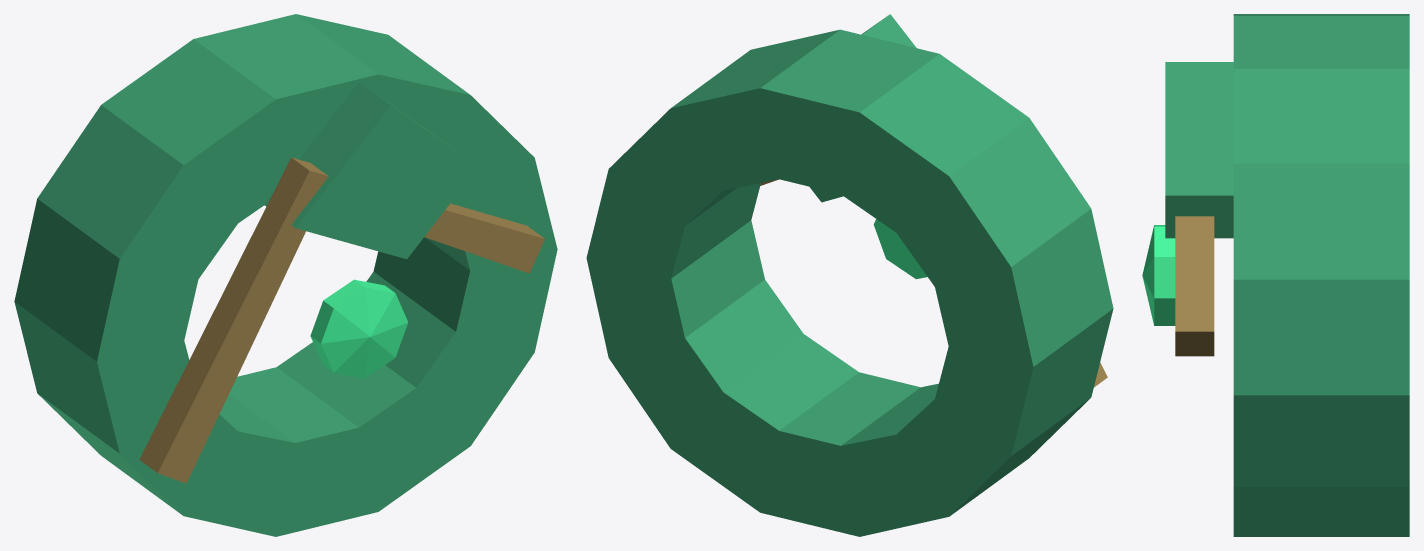
The model's file is dragon_loop.obj.
3 views of the same model, side by side, from view 1: azimuth 30°, elevation 25°; view 2: azimuth 150°, elevation 25°; view 3: azimuth 270°, elevation 25° (orthographic). The views are drawn at different scales.
Parts seen in each view (by area): view 1: dragon_loop, dragon_head, dragon_spine, dragon_spine_edge, dragon_loop_gem, dragon_head_edge; view 2: dragon_loop, dragon_loop_gem, dragon_head_edge; view 3: dragon_loop, dragon_head_edge, dragon_spine_edge, dragon_loop_gem.
Boxes of the visible parts, box(x1,y1,x2,y2) form: dragon_loop: box(14, 14, 557, 536); dragon_head: box(296, 105, 478, 259); dragon_spine: box(158, 171, 544, 483); dragon_spine_edge: box(139, 157, 544, 472); dragon_loop_gem: box(310, 279, 408, 378); dragon_head_edge: box(264, 82, 473, 227); dragon_loop: box(586, 29, 1113, 536); dragon_loop_gem: box(873, 219, 927, 279); dragon_head_edge: box(861, 14, 916, 48); dragon_loop: box(1233, 14, 1409, 536); dragon_head_edge: box(1165, 62, 1233, 238); dragon_spine_edge: box(1175, 216, 1214, 356); dragon_loop_gem: box(1142, 225, 1175, 325).
Bounding box in the file's own units: 0.58 × 0.5265 × 0.2737.
